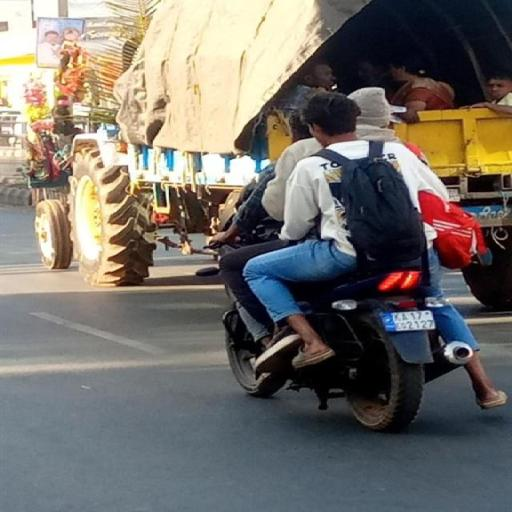tripple riding: (215, 88, 494, 274)
